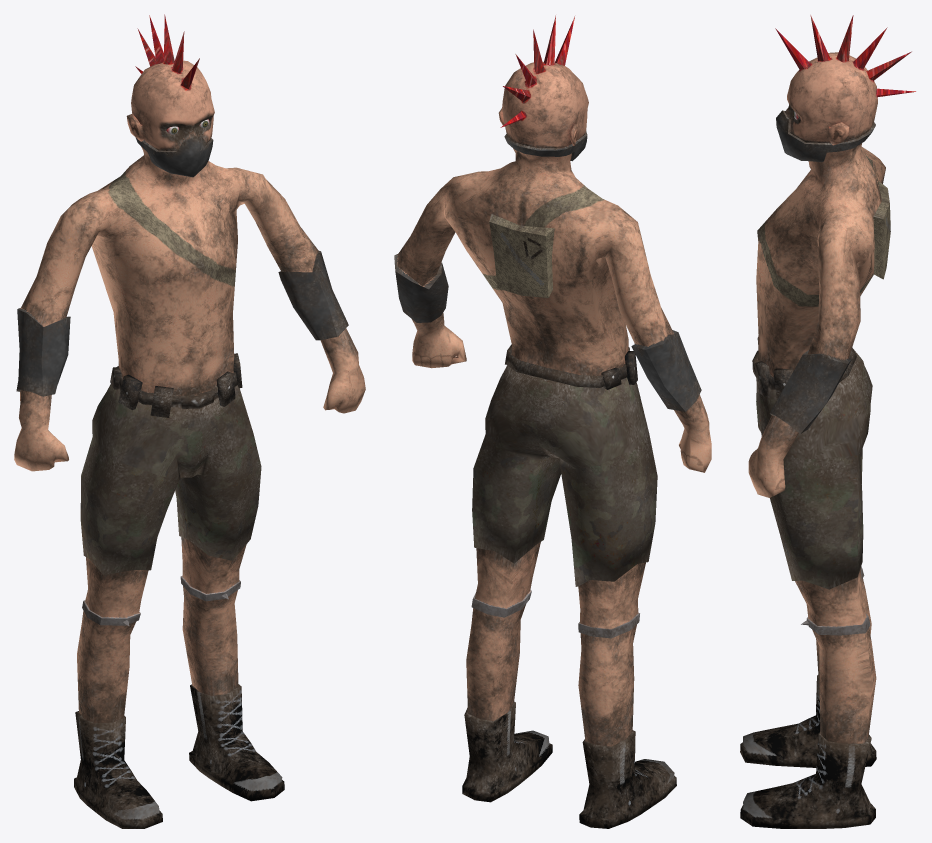
Rendered from Anim_idle_npc2.0054.obj.
3 views of the same model, side by side, from view 1: azimuth 30°, elevation 25°; view 2: azimuth 150°, elevation 25°; view 3: azimuth 270°, elevation 25° (orthographic). The views are drawn at different scales.
Visible parts, largest first — view 1: polySurface1; view 2: polySurface1; view 3: polySurface1.
Part boxes in pixels (left/top/right/bottom): polySurface1: left=14, top=14, right=365, bottom=828; polySurface1: left=394, top=15, right=711, bottom=828; polySurface1: left=740, top=15, right=915, bottom=828.
Bounding box in the file's own units: 4.49 × 10.18 × 2.1.
